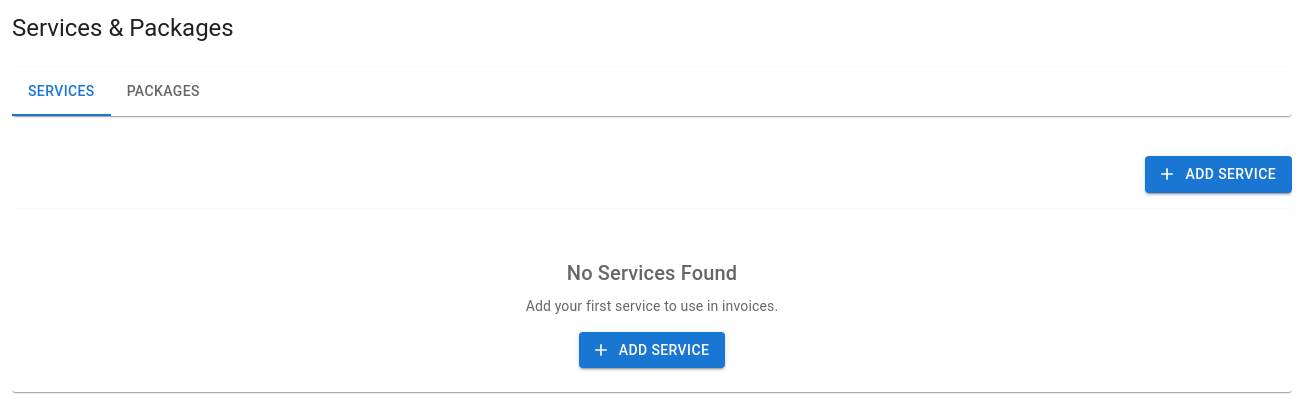
Test: Services Component › Packages Tab › Empty State › should show empty state when no packages exist
What coordinates should you click on to do the following:
click the tab "Packages"
I would click on:
 (163, 92)
Its box is x1=111 y1=68 x2=216 y2=116.
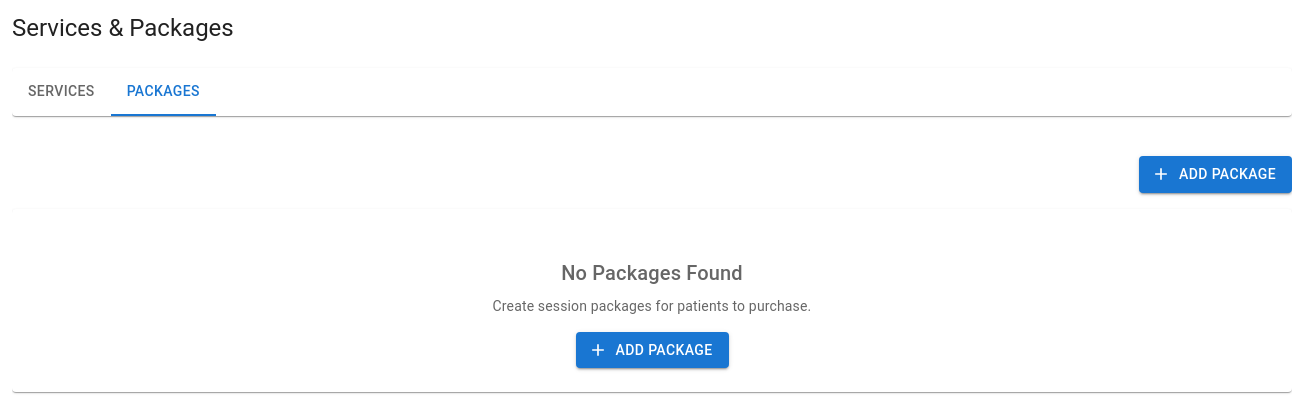
Expected: the heading "No Packages Found" is shown, x1=561 y1=260 x2=743 y2=284
Expected: the text "Create session packages for patients to purchase." is shown, x1=493 y1=298 x2=811 y2=314
